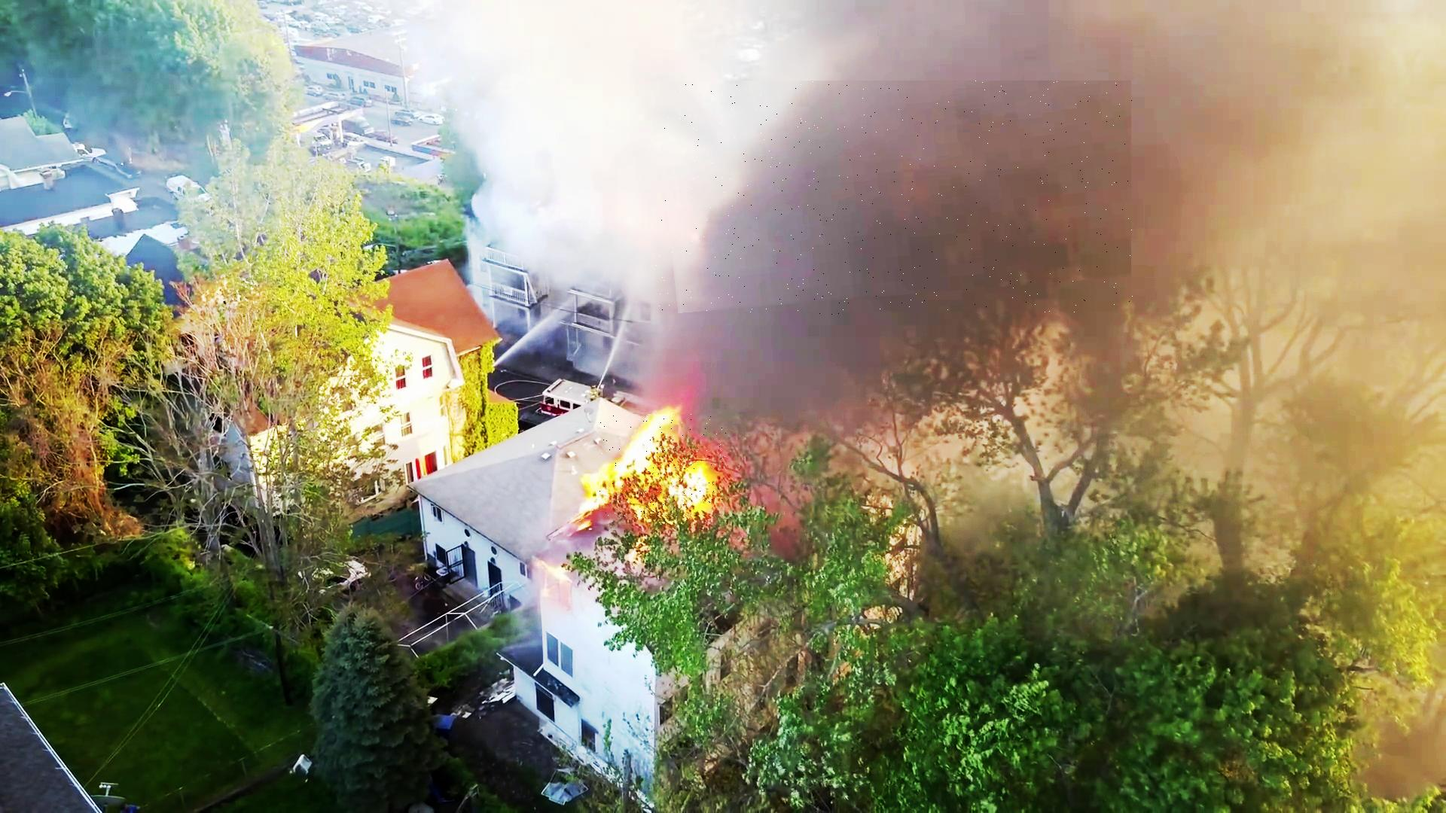fire: (599, 415, 727, 518)
smoke: (656, 81, 1133, 315)
